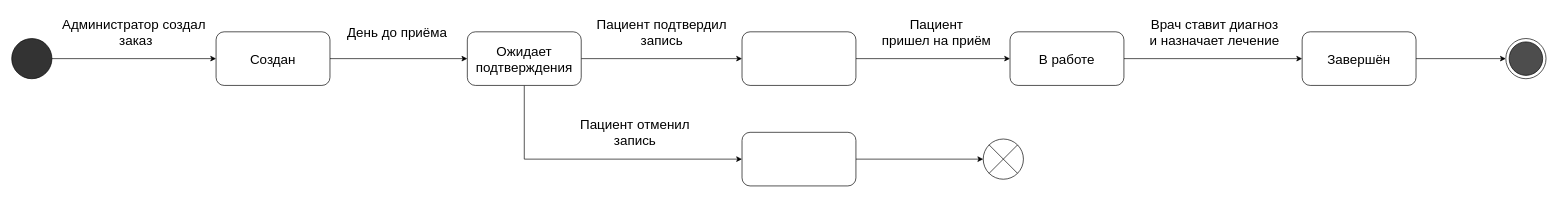
The diagram is 1558 pixels wide and 198 high, and some of its shapes have lost their labels. The centre of each missing label's shape, as x and y in pixels:
"Отменен" belongs at pixel 798 159.
"Подтвержден" belongs at pixel 798 58.
